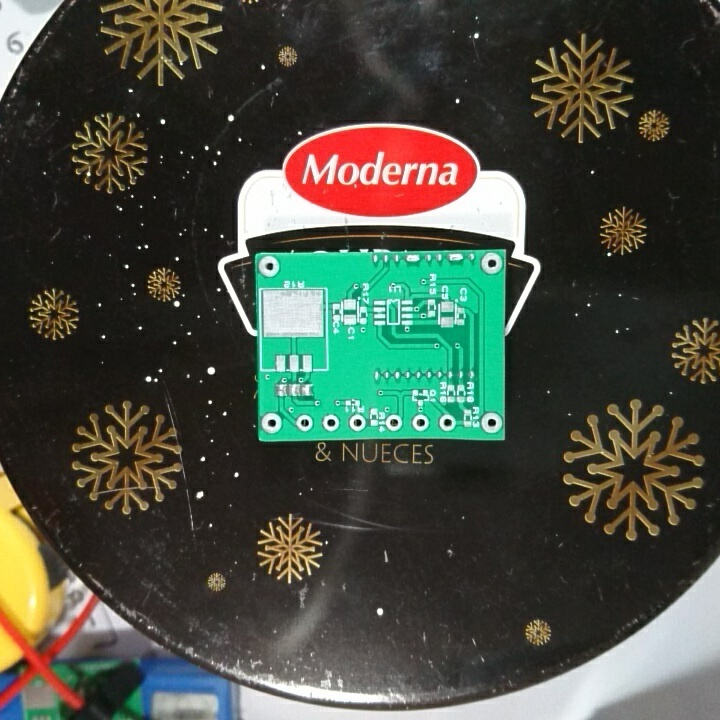F: (257, 253, 282, 281), (478, 250, 504, 276), (259, 411, 285, 436), (479, 411, 503, 435), (292, 412, 315, 433), (409, 412, 431, 433), (434, 411, 457, 431), (320, 412, 340, 434), (347, 412, 367, 432), (383, 413, 404, 432)
P: (446, 252, 466, 266), (403, 252, 423, 265)
